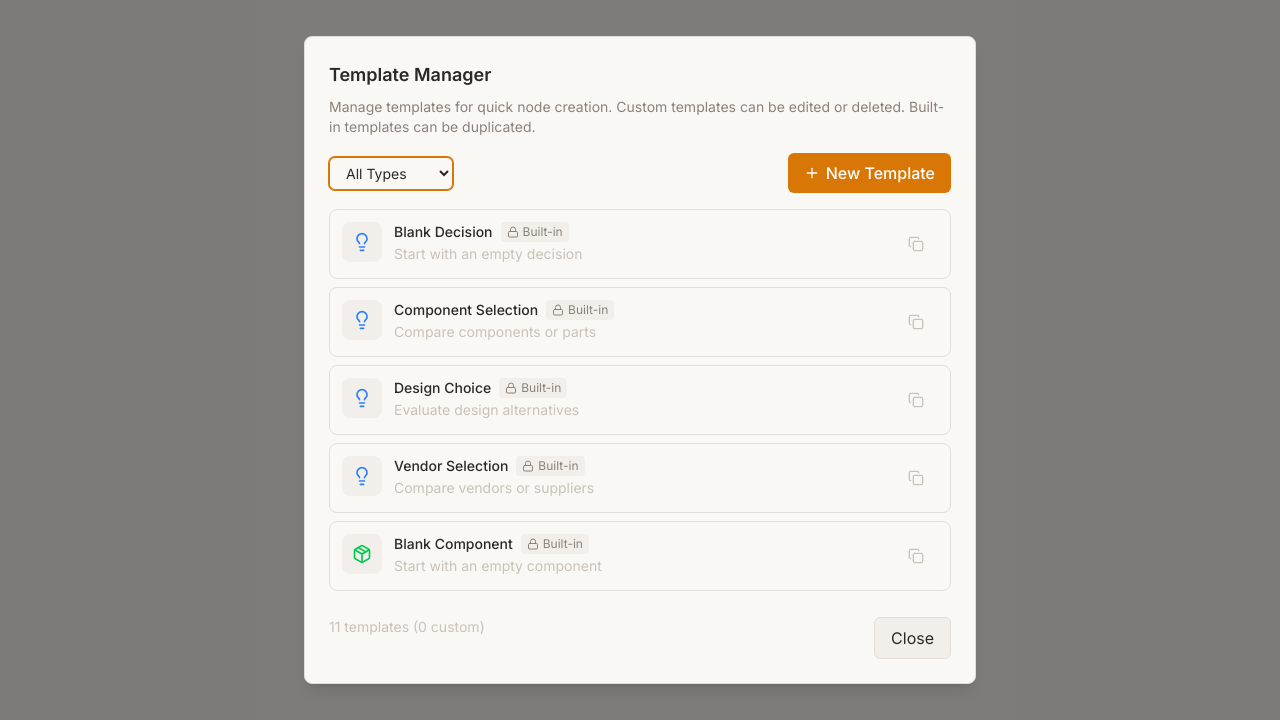
Test: TemplateManager › template listing › filters templates by type
Select "Task" in the dropdown named "Filter by type" at (391, 173), box [329,156,453,190]
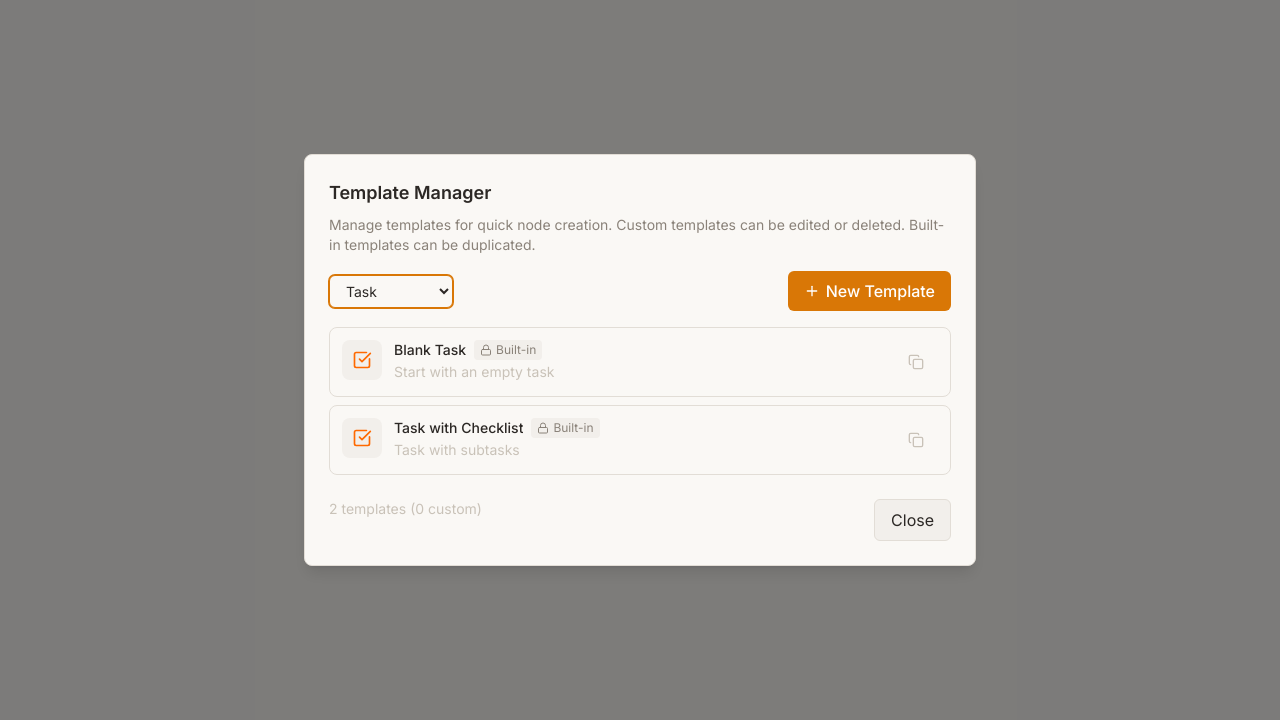
Result: the heading "Blank Task" is shown at [394,340,466,360]
Result: the heading "Task with Checklist" is shown at [394,418,523,438]
Result: the heading "Blank Decision" is gone
